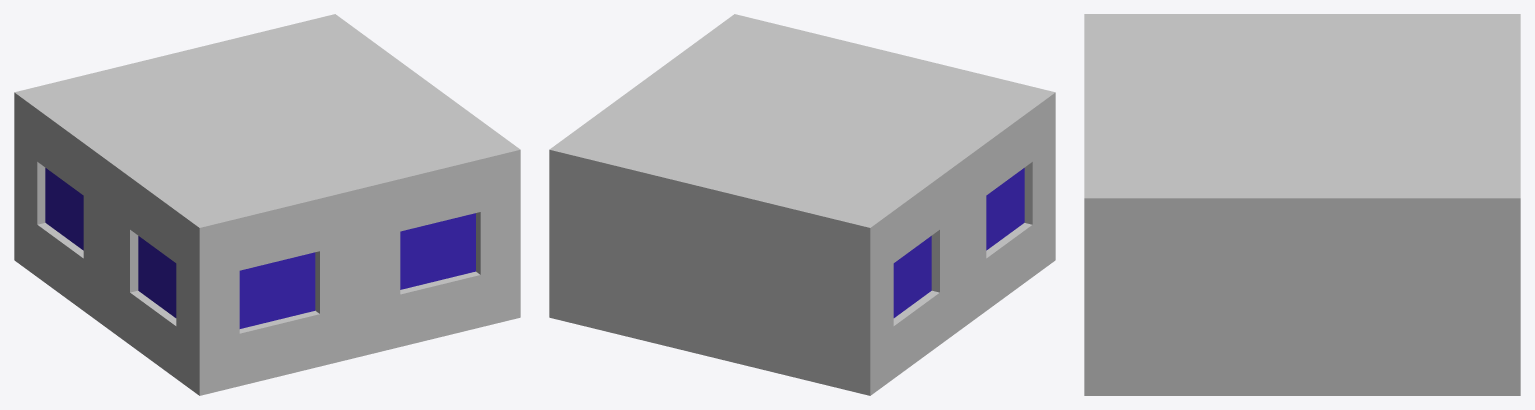
The model's file is Windows.fbx.
3 views of the same model, side by side, from view 1: azimuth 30°, elevation 25°; view 2: azimuth 150°, elevation 25°; view 3: azimuth 270°, elevation 25° (orthographic). The views are drawn at different scales.
Visible parts, largest first — view 1: Windows; view 2: Windows; view 3: Windows.
Part boxes in pixels (x1=…): Windows: x1=14, y1=14, x2=520, y2=395; Windows: x1=549, y1=14, x2=1055, y2=395; Windows: x1=1084, y1=14, x2=1520, y2=395.
Size of the model in its own units: 800 by 400 by 800.
